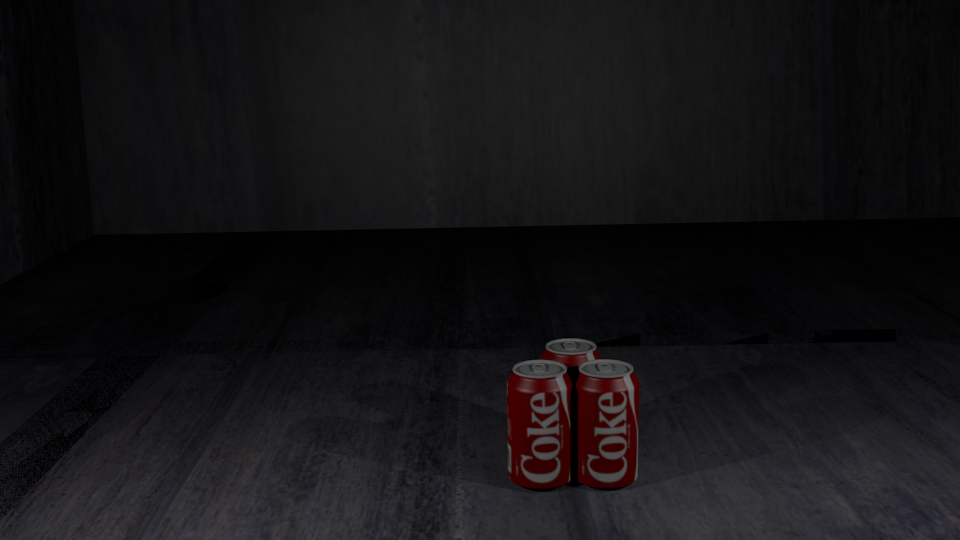cola_can: (507, 360, 572, 485), (573, 360, 638, 484), (541, 339, 601, 456)
